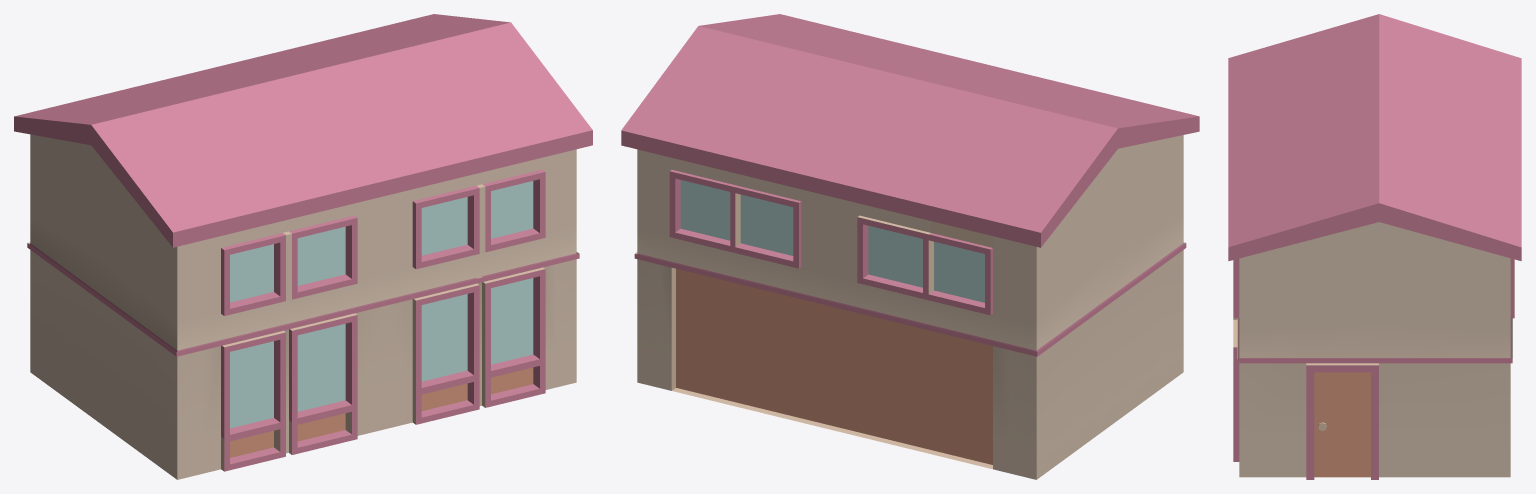
Rendered from House.fbx.
3 views of the same model, side by side, from view 1: azimuth 30°, elevation 25°; view 2: azimuth 150°, elevation 25°; view 3: azimuth 270°, elevation 25° (orthographic). The views are drawn at different scales.
Visible parts, largest first — view 1: pCylinder2; view 2: pCylinder2; view 3: pCylinder2.
Boxes of the visible parts, x1=… form: pCylinder2: x1=14, y1=14, x2=592, y2=479; pCylinder2: x1=621, y1=14, x2=1199, y2=479; pCylinder2: x1=1228, y1=14, x2=1521, y2=479.
Size of the model in its own units: 11.2 by 7.7 by 7.34.
